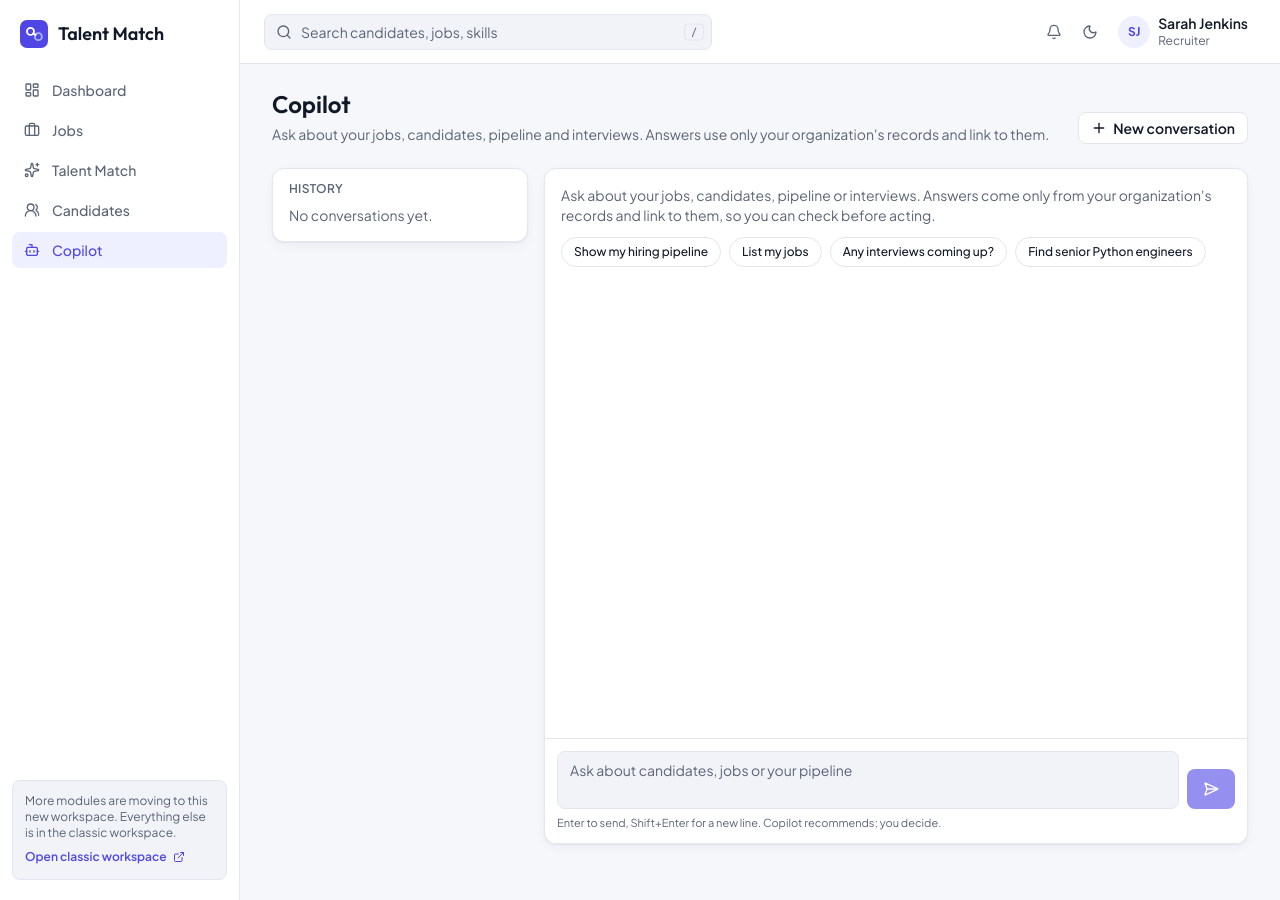
it: copilot page › asks a suggested question and shows the cited answer with how it was produced
Step 1. Click the button "List my jobs" → (775, 252), box [729,237,822,267]
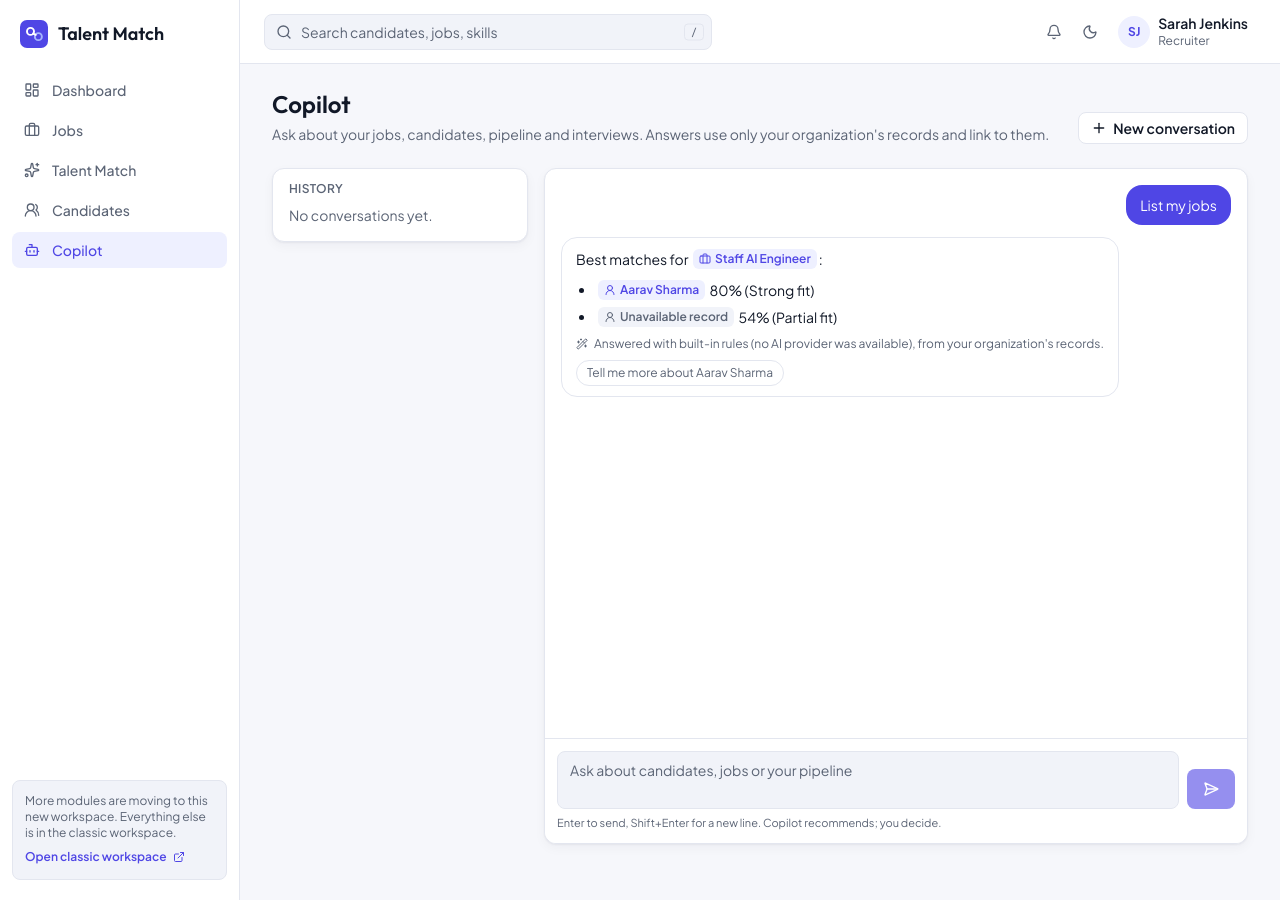
Result: the link "Aarav Sharma" is shown at [598,280,705,300]
Result: the text "built-in rules" is shown at [594,336,1104,351]
Result: the button "Tell me more about Aarav Sharma" is shown at [576,360,784,386]
